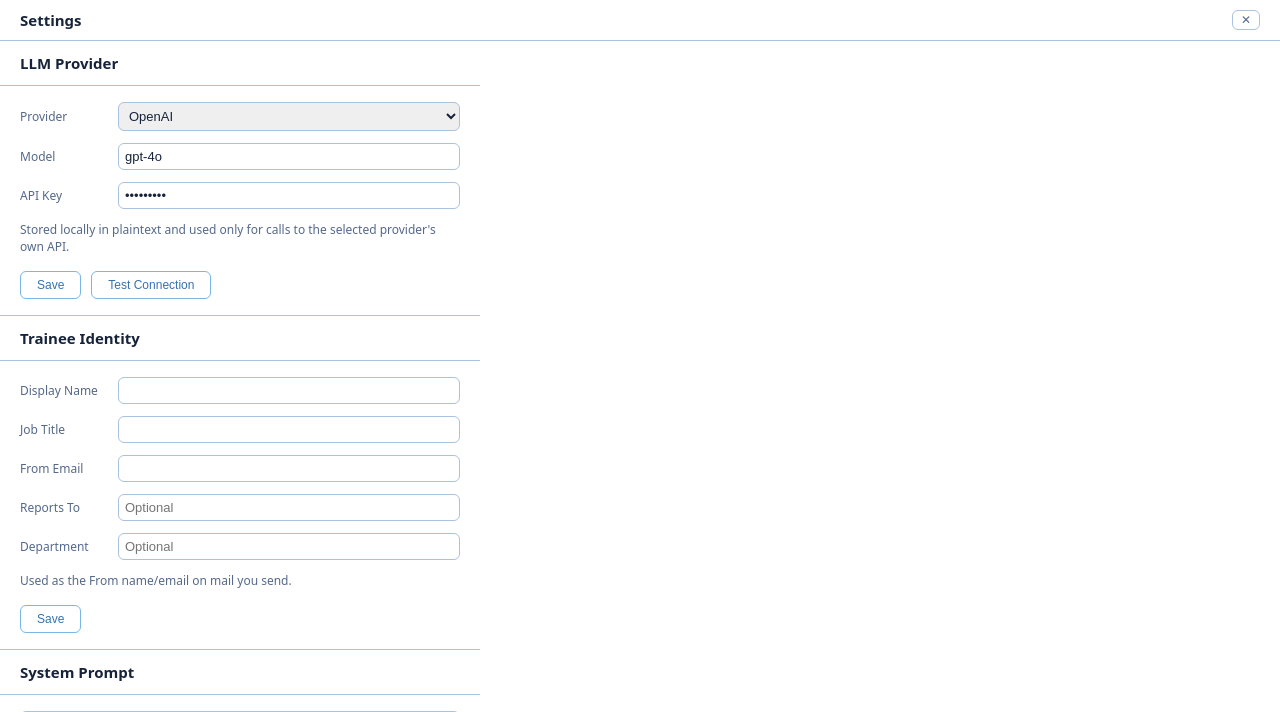
SettingsView › Test Connection › shows the returned text on success
This screenshot has width=1280, height=712.
Check: the dropdown labelled "Provider" is shown, box [118,102,460,131]
Click the button "Test Connection".
click(151, 285)  # box [91,271,212,299]
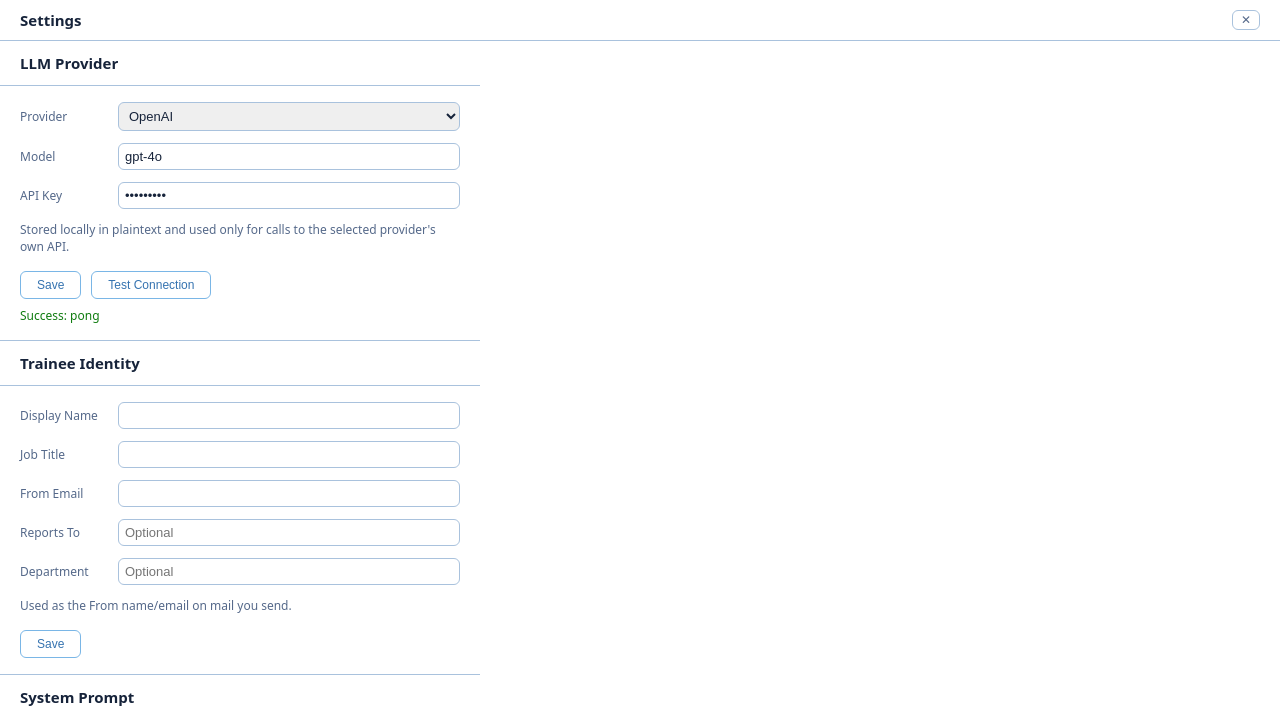
Check: the text "Success: pong" is shown, box [20,307,100,324]
